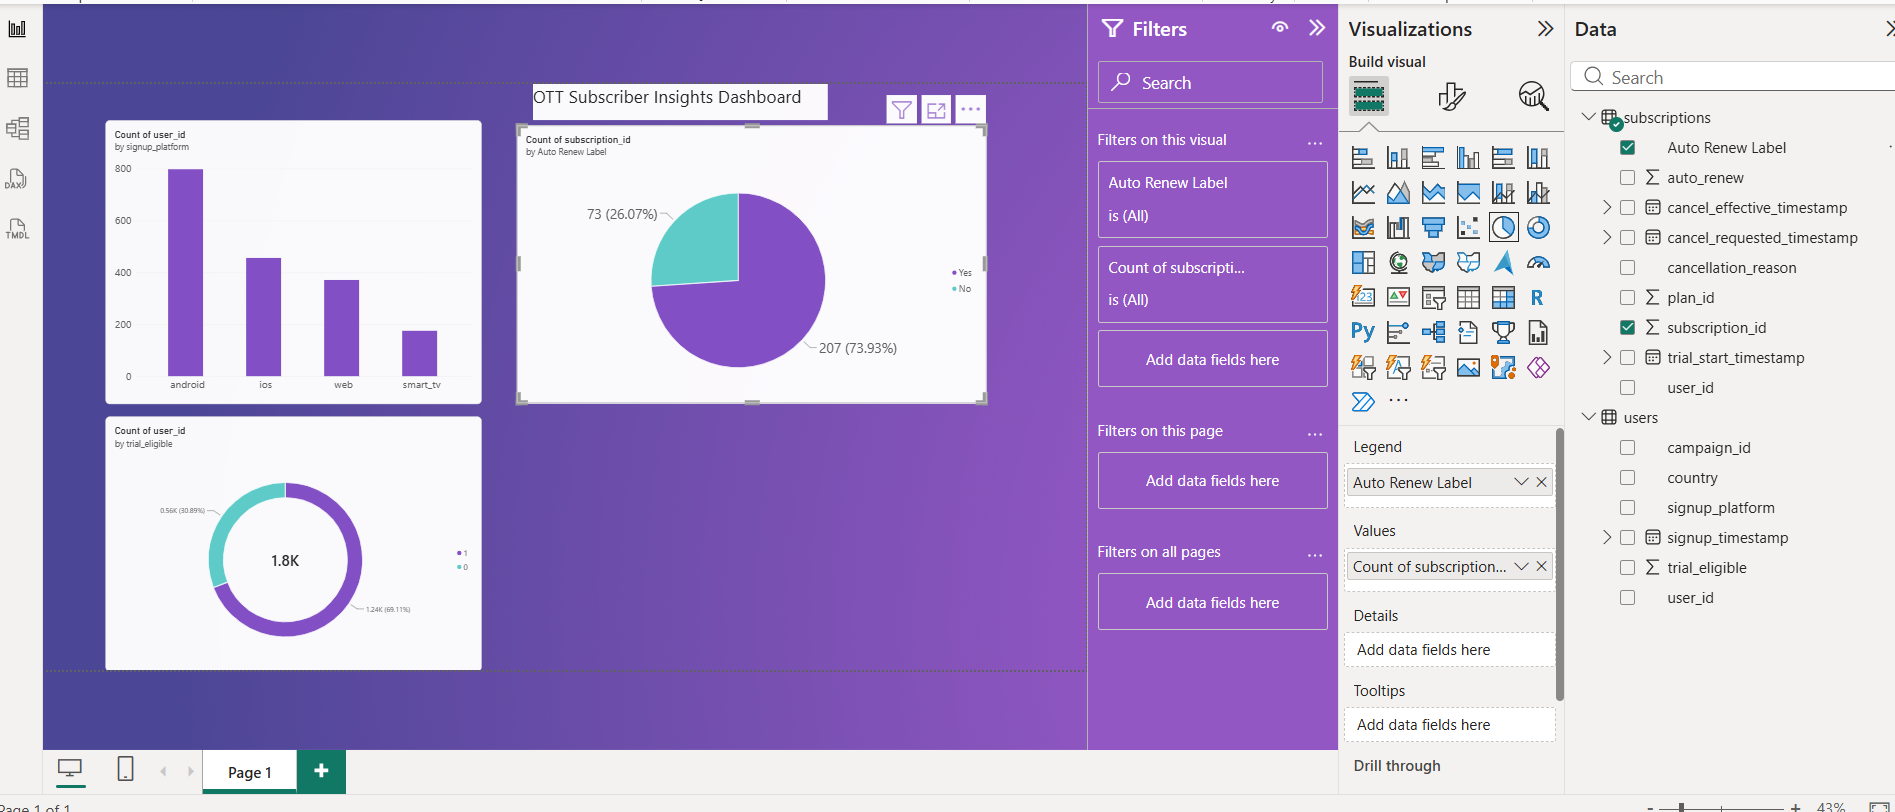

This screenshot's page, from the dashboard's own definition file:
{"tool":"powerbi","page":{"name":"Page 1","canvas":[1920,1080],"ordinal":0},"visuals":[{"type":"clusteredColumnChart","fields":{"Category":["users.signup_platform"],"Y":["CountNonNull(users.user_id)"]},"box":[115,66.7,692.3,522.1],"z":0},{"type":"pieChart","fields":{"Category":["subscriptions.Auto Renew Label"],"Y":["CountNonNull(subscriptions.subscription_id)"]},"box":[871.7,75.9,864.8,512.9],"z":1},{"type":"donutChart","fields":{"Category":["users.trial_eligible"],"Y":["CountNonNull(users.user_id)"]},"box":[115,611.8,692.3,469.2],"z":2},{"type":"textbox","box":[901.6,0,542.8,66.7],"z":4}]}

Visuals, with their boxes on the page's 1920x1080 design canvas (x1, y1, x2, y2). These are canvas units, not pixel positions in the 1895x812 screenshot, which may show the page scaled, cropped or inside an application window:
clusteredColumnChart - users.signup_platform x CountNonNull(users.user_id): Rect(115, 67, 807, 589)
pieChart - subscriptions.Auto Renew Label x CountNonNull(subscriptions.subscription_id): Rect(872, 76, 1736, 589)
donutChart - users.trial_eligible x CountNonNull(users.user_id): Rect(115, 612, 807, 1081)
textbox: Rect(902, 0, 1444, 67)
